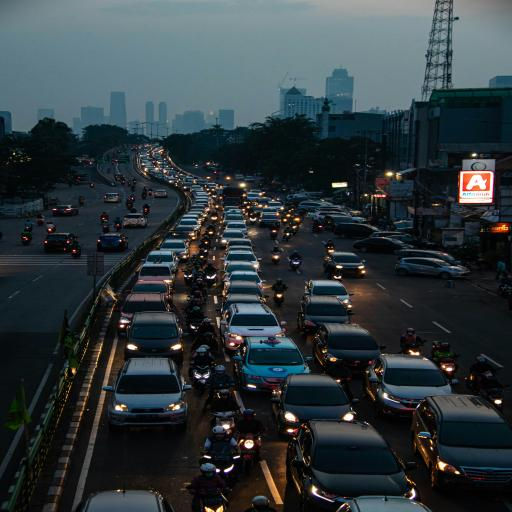bike: (200, 443, 240, 488), (239, 433, 265, 475), (197, 488, 229, 511), (193, 366, 212, 395), (480, 388, 503, 411), (214, 411, 236, 433), (439, 358, 455, 383), (399, 341, 426, 355), (188, 319, 202, 333), (498, 285, 512, 299), (205, 274, 217, 287), (274, 291, 284, 306), (290, 259, 301, 270), (331, 273, 342, 282), (72, 248, 81, 258), (313, 226, 324, 234), (22, 236, 31, 245), (272, 254, 280, 264), (270, 229, 278, 239), (326, 247, 334, 255), (47, 226, 56, 233), (283, 233, 290, 241), (115, 223, 122, 231), (101, 215, 108, 223), (292, 226, 298, 235), (37, 219, 44, 226), (250, 217, 256, 225), (126, 202, 132, 209), (25, 226, 32, 232), (143, 208, 149, 215), (103, 226, 109, 233), (142, 193, 146, 200), (79, 200, 84, 205), (90, 184, 94, 188)
car: (286, 419, 418, 511), (412, 395, 511, 492), (104, 358, 191, 430), (364, 355, 451, 417), (271, 372, 355, 435), (234, 335, 311, 390), (313, 324, 385, 374), (125, 312, 183, 363), (221, 305, 286, 350), (298, 296, 352, 338), (115, 293, 170, 334), (75, 490, 174, 511), (395, 258, 470, 279), (304, 280, 353, 309), (398, 249, 469, 268), (371, 232, 440, 249), (125, 281, 174, 304), (218, 281, 268, 303), (324, 252, 365, 277), (333, 217, 380, 238), (353, 238, 413, 254), (216, 294, 263, 312), (220, 251, 261, 271), (138, 261, 174, 283), (146, 250, 179, 273), (224, 271, 265, 289), (155, 239, 189, 259), (44, 233, 77, 252), (97, 234, 128, 251), (306, 210, 350, 220), (171, 225, 198, 240), (165, 231, 190, 246), (221, 230, 246, 245), (223, 262, 254, 274), (226, 239, 254, 252), (298, 201, 331, 212), (124, 214, 147, 227), (225, 221, 247, 234), (260, 213, 280, 227), (53, 205, 78, 216), (223, 213, 244, 226), (393, 221, 413, 234), (178, 218, 199, 230), (226, 246, 257, 254), (181, 213, 205, 223), (194, 199, 210, 211), (189, 206, 206, 217), (104, 193, 122, 203), (262, 206, 280, 216), (224, 208, 243, 216), (269, 201, 284, 211), (247, 192, 259, 201), (250, 190, 262, 195), (235, 174, 244, 180), (245, 176, 254, 182)
